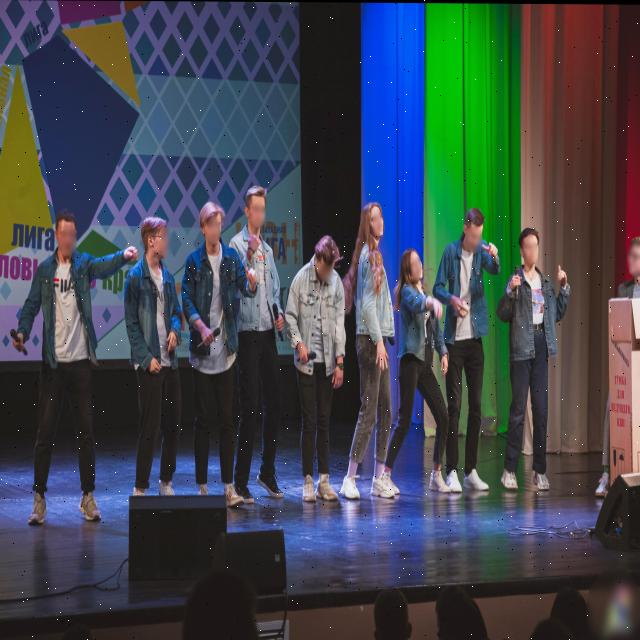Person: (27, 204, 112, 528), (497, 217, 568, 514), (436, 203, 504, 507), (341, 198, 402, 502), (293, 222, 355, 513), (128, 194, 184, 511), (193, 185, 240, 508), (387, 241, 444, 505), (240, 179, 284, 508), (603, 227, 640, 308)
